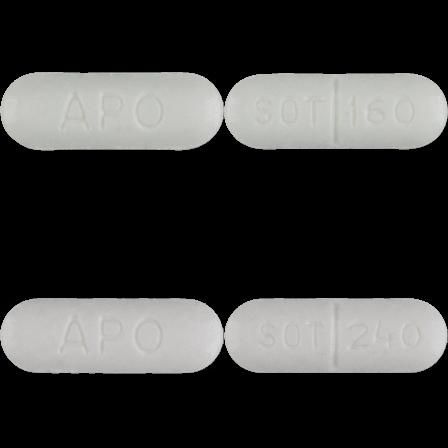60429-750: (0, 0, 224, 224)
